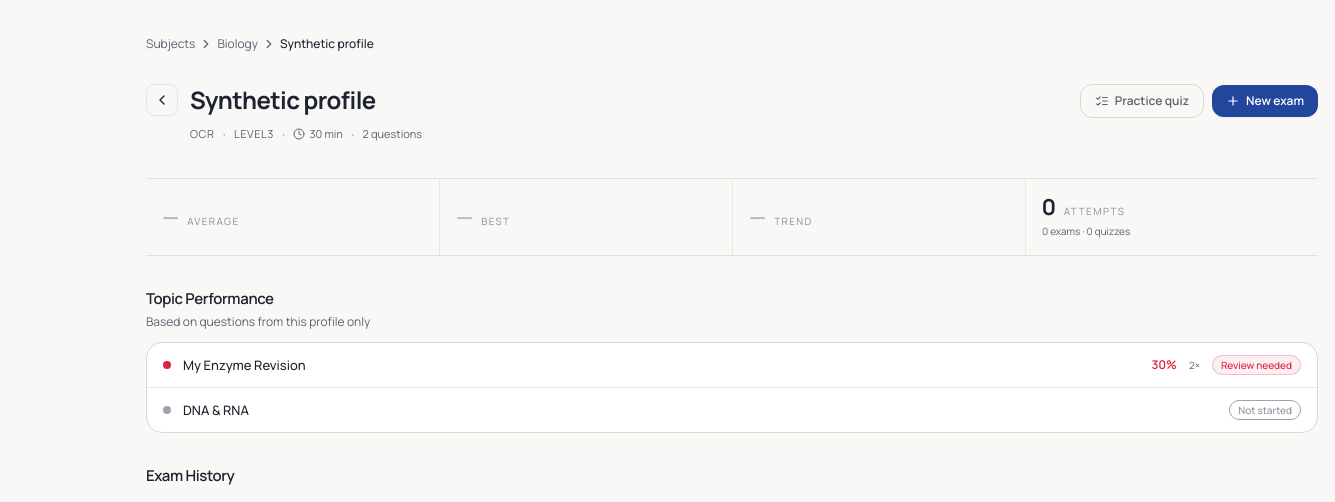
Scenario: saved profile topic display › renders the saved alias while combining canonical exam/quiz scores and navigating with the canonical topic and profile ID
Expected: the text "30%" is shown, [1151,357,1177,373]
Expected: the text "Review needed" is shown, [1212,355,1301,375]
Step 1. Click the button "My Enzyme Revision 30% 2× Review needed" → point(244, 365), box [147,343,1317,387]
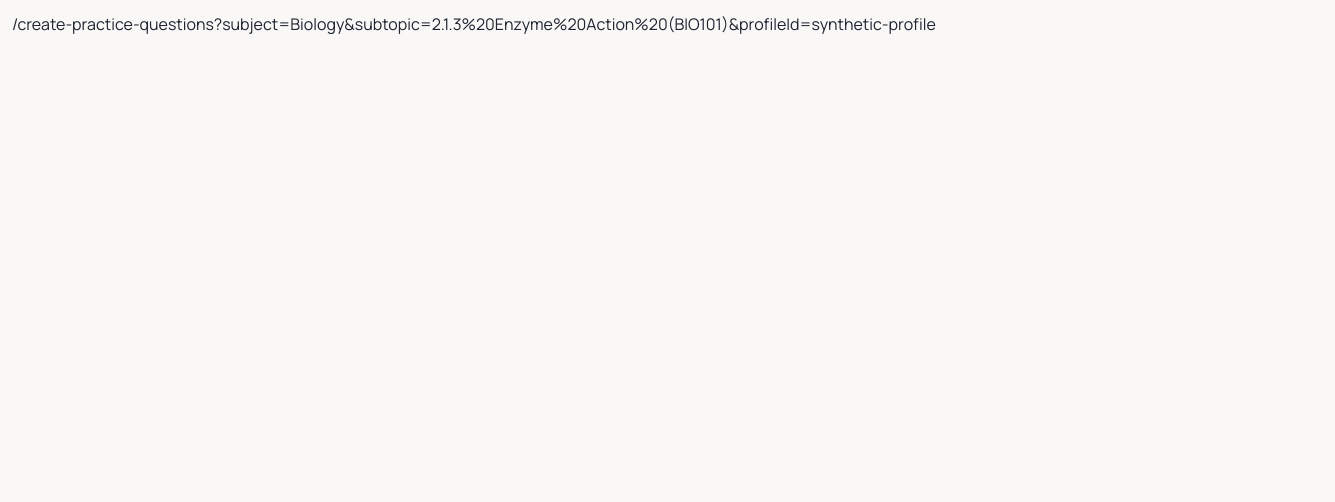
Expected: the text named "Quiz destination" does not show "Private owner reminder, never part of quiz navigation.", [12,13,936,35]
Expected: the text named "Quiz destination" no longer shows "My Enzyme Revision", [12,13,936,35]
